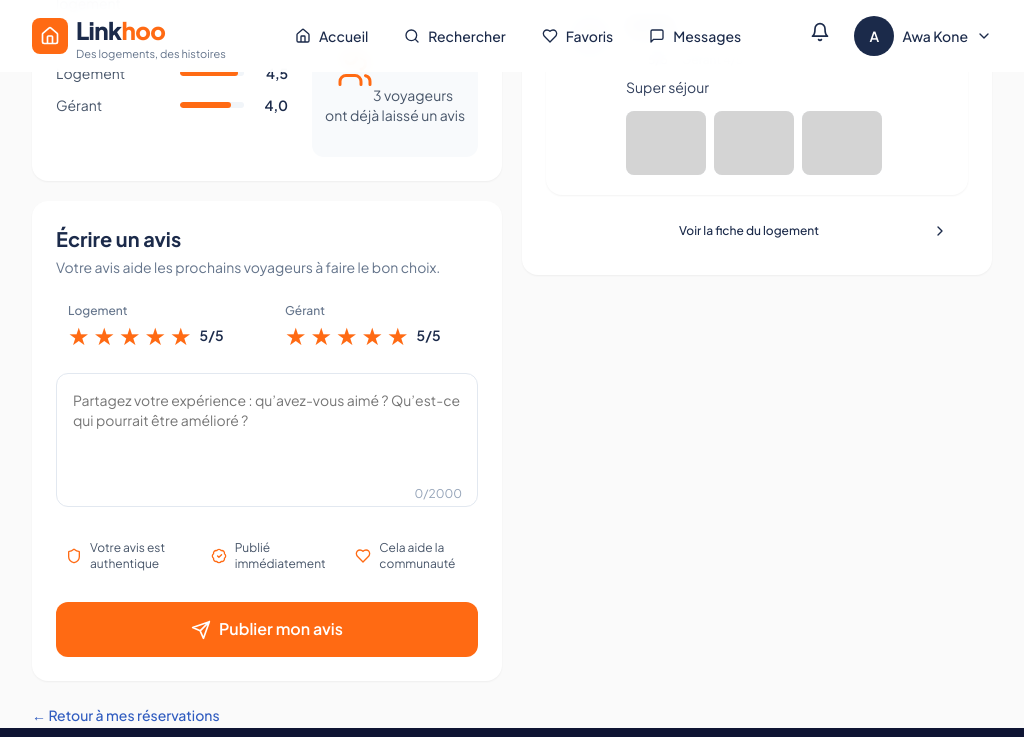
Test case: LaisserAvisPage — avis du logement › affiche l’erreur renvoyée par le serveur
The image size is (1024, 737).
(page scrolled)
Replace the text in the text box with placeholder "Partagez votre expérience : qu’avez-vous aimé ? Qu’est-ce qui pourrait être amélioré ?" with "Séjour très agréable et hôte disponible." at (267, 440), box [56,373,478,507]
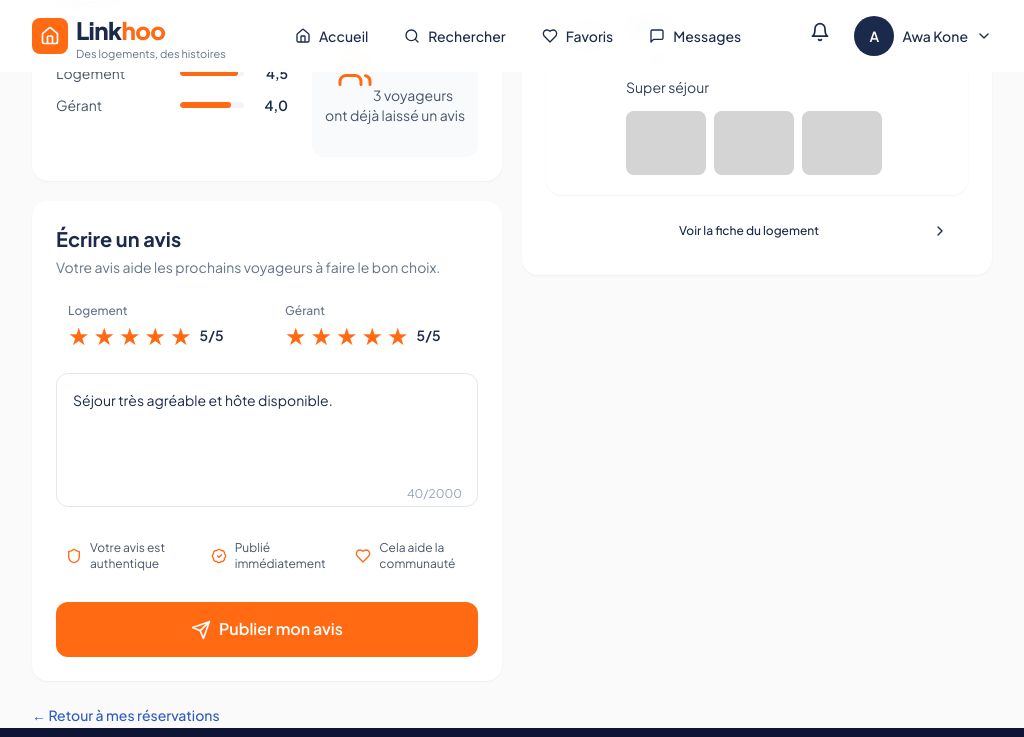
Click the button "Publier mon avis".
click(267, 630)  # box [56,602,478,657]
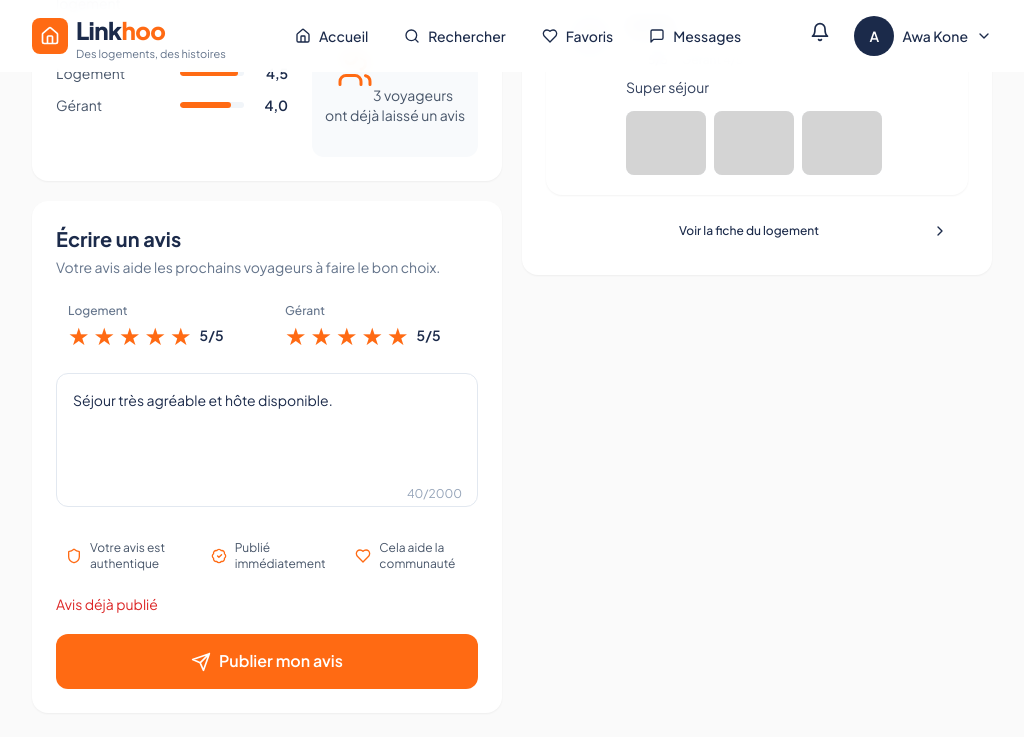
Expected: the text "Avis déjà publié" is shown, [56,595,158,613]
